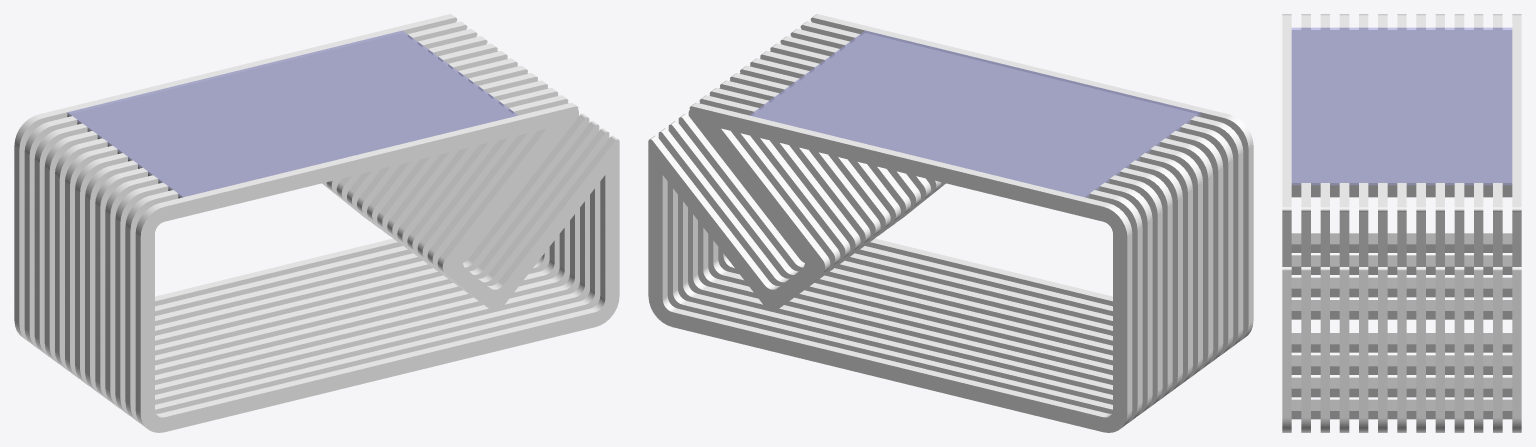
File: mesa-parametrica.glb
The picture shows the model from 3 angles, left to right: view 1: azimuth 30°, elevation 25°; view 2: azimuth 150°, elevation 25°; view 3: azimuth 270°, elevation 25°; orthographic projection. The views are drawn at different scales.
Visible parts, largest first — view 1: vidrio-1, TOP COFFEE TABLE - Copy-1, CNC Coffee Table-1, CNC Coffee Border Sides-1, CNC Coffee Border Sides-2, CNC Coffee Border Sides-3, CNC Coffee Border Sides-4, CNC Coffee Border Sides-5, CNC Coffee Table-2, CNC Coffee Border Sides-6, CNC Coffee Border Sides-7, CNC Coffee Border Sides-8 (+3 smaller); view 2: vidrio-1, TOP COFFEE TABLE - Copy-1, CNC Coffee Table-2, CNC Coffee Border Sides-10, CNC Coffee Border Sides-11, CNC Coffee Border Sides-9, CNC Coffee Border Sides-8, CNC Coffee Border Sides-7, CNC Coffee Table-1, CNC Coffee Border Sides-6, CNC Coffee Border Sides-5, CNC Coffee Border Sides-4 (+3 smaller); view 3: TOP COFFEE TABLE - Copy-1, vidrio-1, CNC Coffee Table-1, CNC Coffee Table-2, CNC Coffee Border Sides-3, CNC Coffee Border Sides-9, CNC Coffee Border Sides-1, CNC Coffee Border Sides-7, CNC Coffee Border Sides-5, CNC Coffee Border Sides-10, CNC Coffee Border Sides-6, CNC Coffee Border Sides-4 (+11 smaller).
Part boxes in pixels (x1,y1,x2,y2): vidrio-1: [67, 30, 518, 197]; TOP COFFEE TABLE - Copy-1: [67, 33, 514, 198]; CNC Coffee Table-1: [135, 102, 619, 432]; CNC Coffee Border Sides-1: [125, 95, 609, 423]; CNC Coffee Border Sides-2: [115, 88, 599, 415]; CNC Coffee Border Sides-3: [105, 80, 589, 408]; CNC Coffee Border Sides-4: [95, 73, 578, 400]; CNC Coffee Border Sides-5: [85, 65, 568, 393]; CNC Coffee Table-2: [14, 14, 497, 341]; CNC Coffee Border Sides-6: [75, 58, 558, 386]; CNC Coffee Border Sides-7: [65, 51, 548, 378]; CNC Coffee Border Sides-8: [55, 43, 537, 371]; vidrio-1: [749, 30, 1200, 197]; TOP COFFEE TABLE - Copy-1: [753, 33, 1200, 198]; CNC Coffee Table-2: [648, 102, 1132, 432]; CNC Coffee Border Sides-10: [658, 95, 1142, 423]; CNC Coffee Border Sides-11: [668, 88, 1152, 415]; CNC Coffee Border Sides-9: [678, 80, 1162, 408]; CNC Coffee Border Sides-8: [688, 73, 1172, 400]; CNC Coffee Border Sides-7: [699, 65, 1182, 393]; CNC Coffee Table-1: [770, 14, 1253, 341]; CNC Coffee Border Sides-6: [709, 58, 1192, 386]; CNC Coffee Border Sides-5: [719, 51, 1202, 378]; CNC Coffee Border Sides-4: [730, 43, 1213, 371]; TOP COFFEE TABLE - Copy-1: [1291, 30, 1512, 197]; vidrio-1: [1291, 27, 1512, 185]; CNC Coffee Table-1: [1282, 14, 1291, 432]; CNC Coffee Table-2: [1512, 14, 1521, 432]; CNC Coffee Border Sides-3: [1339, 14, 1349, 432]; CNC Coffee Border Sides-9: [1454, 14, 1464, 432]; CNC Coffee Border Sides-1: [1301, 14, 1310, 432]; CNC Coffee Border Sides-7: [1416, 14, 1425, 432]; CNC Coffee Border Sides-5: [1378, 14, 1387, 432]; CNC Coffee Border Sides-10: [1493, 14, 1502, 432]; CNC Coffee Border Sides-6: [1397, 14, 1406, 432]; CNC Coffee Border Sides-4: [1359, 14, 1368, 432].
Bounding box in the file's own units: 1 × 0.45 × 0.456.
